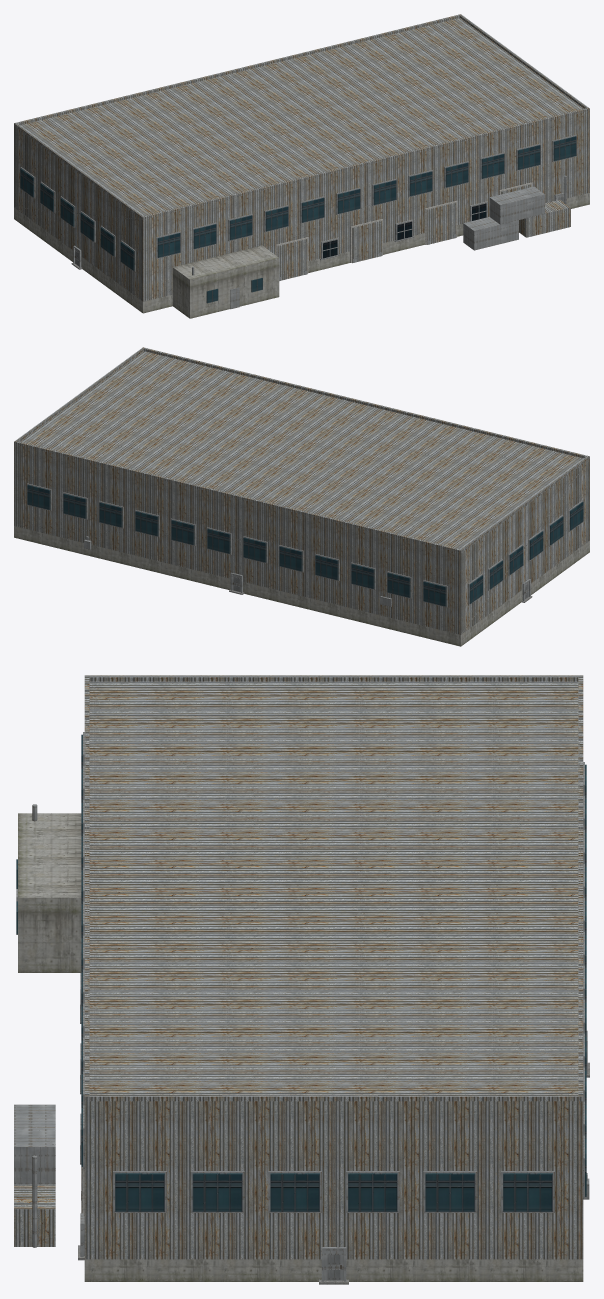
File: lakeside-parts-warehouse_lod0.gltf
The picture shows the model from 3 angles, top to bottom: view 1: azimuth 30°, elevation 25°; view 2: azimuth 150°, elevation 25°; view 3: azimuth 270°, elevation 25°; orthographic projection. The views are drawn at different scales.
Parts seen in each view (by area): view 1: lakeside-parts-warehouse_upper, lakeside-parts-warehouse_fen_07-glass-curtain-blue_1, lakeside-parts-warehouse__office_block, lakeside-parts-warehouse_fen_21-corrugated-steel_3, lakeside-parts-warehouse_base, lakeside-parts-warehouse_fen_14-steel-panel_0, lakeside-parts-warehouse__parapet_front, lakeside-parts-warehouse__parapet_back, lakeside-parts-warehouse__container_c, lakeside-parts-warehouse__container_a, lakeside-parts-warehouse__container_b, lakeside-parts-warehouse_fen_07-glass-curtain-blue_7_t (+3 smaller); view 2: lakeside-parts-warehouse_upper, lakeside-parts-warehouse_fen_07-glass-curtain-blue_1, lakeside-parts-warehouse_base, lakeside-parts-warehouse_fen_14-steel-panel_0, lakeside-parts-warehouse__parapet_back, lakeside-parts-warehouse__parapet_front, lakeside-parts-warehouse__parapet_left, lakeside-parts-warehouse__parapet_right; view 3: lakeside-parts-warehouse_upper, lakeside-parts-warehouse_fen_07-glass-curtain-blue_1, lakeside-parts-warehouse_base, lakeside-parts-warehouse__office_block, lakeside-parts-warehouse_fen_14-steel-panel_0, lakeside-parts-warehouse__parapet_right, lakeside-parts-warehouse__parapet_left, lakeside-parts-warehouse__container_c, lakeside-parts-warehouse__parapet_front, lakeside-parts-warehouse__parapet_back, lakeside-parts-warehouse__container_b.
Boxes of the visible parts, x1=… form: lakeside-parts-warehouse_upper: x1=14, y1=18, x2=589, y2=301; lakeside-parts-warehouse_fen_07-glass-curtain-blue_1: x1=20, y1=136, x2=576, y2=270; lakeside-parts-warehouse__office_block: x1=172, y1=245, x2=279, y2=318; lakeside-parts-warehouse_fen_21-corrugated-steel_3: x1=277, y1=184, x2=531, y2=280; lakeside-parts-warehouse_base: x1=14, y1=193, x2=589, y2=313; lakeside-parts-warehouse_fen_14-steel-panel_0: x1=20, y1=134, x2=576, y2=280; lakeside-parts-warehouse__parapet_front: x1=141, y1=107, x2=589, y2=219; lakeside-parts-warehouse__parapet_back: x1=14, y1=14, x2=461, y2=125; lakeside-parts-warehouse__container_c: x1=489, y1=186, x2=544, y2=224; lakeside-parts-warehouse__container_a: x1=463, y1=217, x2=518, y2=250; lakeside-parts-warehouse__container_b: x1=519, y1=199, x2=570, y2=237; lakeside-parts-warehouse_fen_07-glass-curtain-blue_7_t: x1=323, y1=203, x2=486, y2=258; lakeside-parts-warehouse_upper: x1=14, y1=351, x2=589, y2=634; lakeside-parts-warehouse_fen_07-glass-curtain-blue_1: x1=27, y1=485, x2=583, y2=606; lakeside-parts-warehouse_base: x1=14, y1=526, x2=589, y2=646; lakeside-parts-warehouse_fen_14-steel-panel_0: x1=27, y1=483, x2=583, y2=607; lakeside-parts-warehouse__parapet_back: x1=14, y1=441, x2=462, y2=552; lakeside-parts-warehouse__parapet_front: x1=142, y1=347, x2=589, y2=459; lakeside-parts-warehouse__parapet_left: x1=460, y1=457, x2=588, y2=551; lakeside-parts-warehouse__parapet_right: x1=15, y1=348, x2=143, y2=441; lakeside-parts-warehouse_upper: x1=84, y1=681, x2=583, y2=1259; lakeside-parts-warehouse_fen_07-glass-curtain-blue_1: x1=81, y1=734, x2=586, y2=1211; lakeside-parts-warehouse_base: x1=84, y1=1259, x2=583, y2=1281; lakeside-parts-warehouse__office_block: x1=18, y1=813, x2=81, y2=972; lakeside-parts-warehouse_fen_14-steel-panel_0: x1=80, y1=732, x2=589, y2=1281; lakeside-parts-warehouse__parapet_right: x1=89, y1=1094, x2=578, y2=1101; lakeside-parts-warehouse__parapet_left: x1=89, y1=675, x2=578, y2=681; lakeside-parts-warehouse__container_c: x1=14, y1=1104, x2=55, y2=1184; lakeside-parts-warehouse__parapet_front: x1=84, y1=675, x2=89, y2=1101; lakeside-parts-warehouse__parapet_back: x1=578, y1=675, x2=583, y2=1101; lakeside-parts-warehouse__container_b: x1=14, y1=1184, x2=55, y2=1246.
Bounding box in the file's own units: 60.8 × 12.3 × 34.65.
